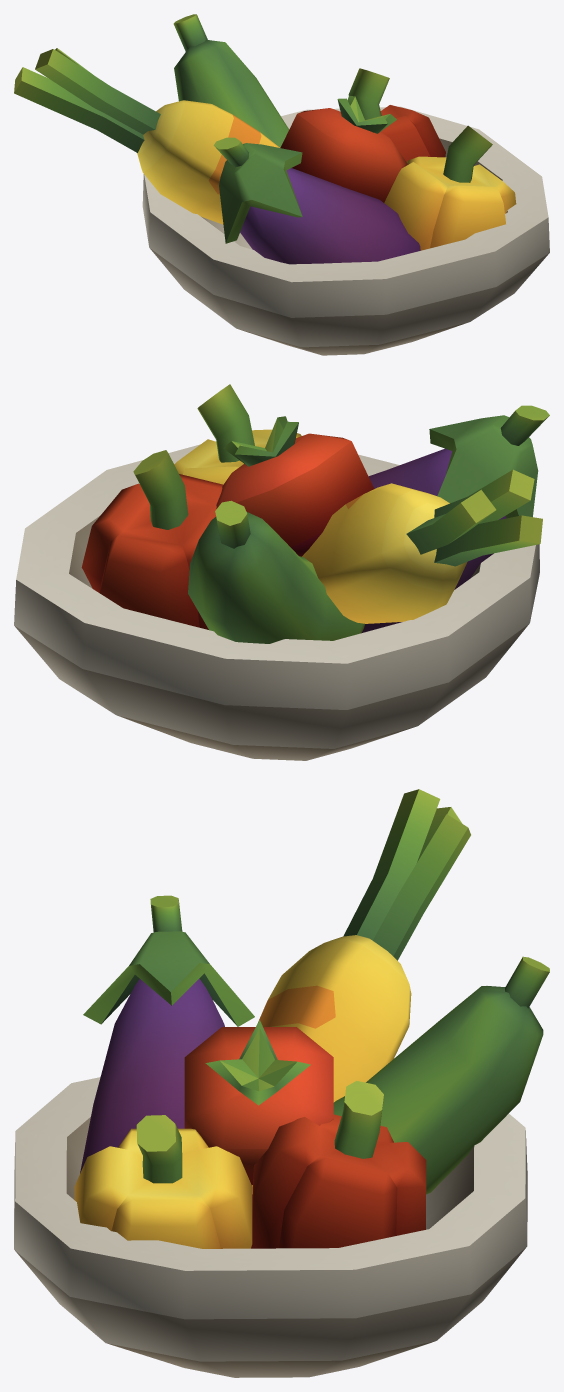
File: bowl_fruit.fbx
The picture shows the model from 3 angles, top to bottom: view 1: azimuth 30°, elevation 25°; view 2: azimuth 150°, elevation 25°; view 3: azimuth 270°, elevation 25°; orthographic projection. The views are drawn at different scales.
Visible parts, largest first — view 1: bowl_fruit; view 2: bowl_fruit; view 3: bowl_fruit.
Part boxes in pixels (left/top/right/bottom): bowl_fruit: left=14, top=14, right=549, bottom=355; bowl_fruit: left=14, top=384, right=549, bottom=760; bowl_fruit: left=14, top=789, right=549, bottom=1377.
Bounding box in the file's own units: 82.38 × 52.18 × 65.55.
